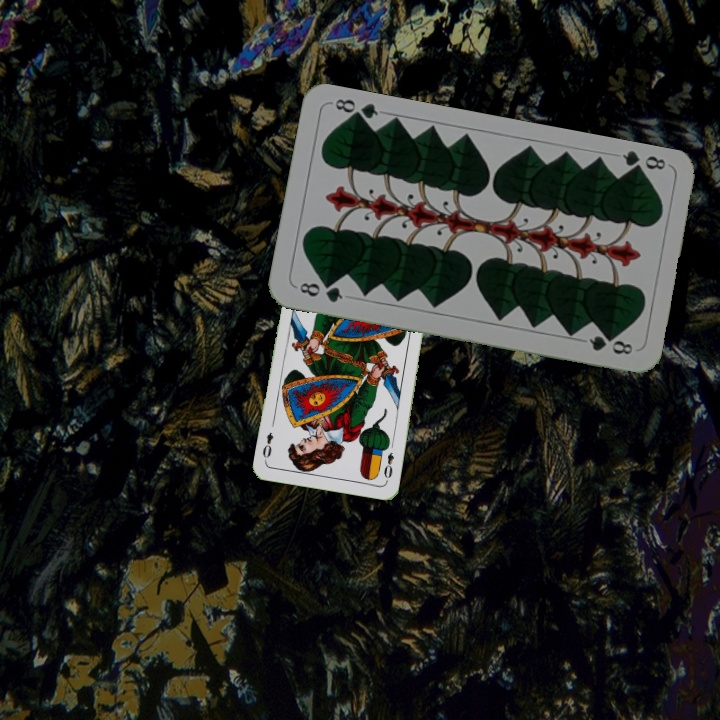EO: (380, 448, 397, 481)
G8: (618, 147, 668, 178), (292, 278, 346, 305)
